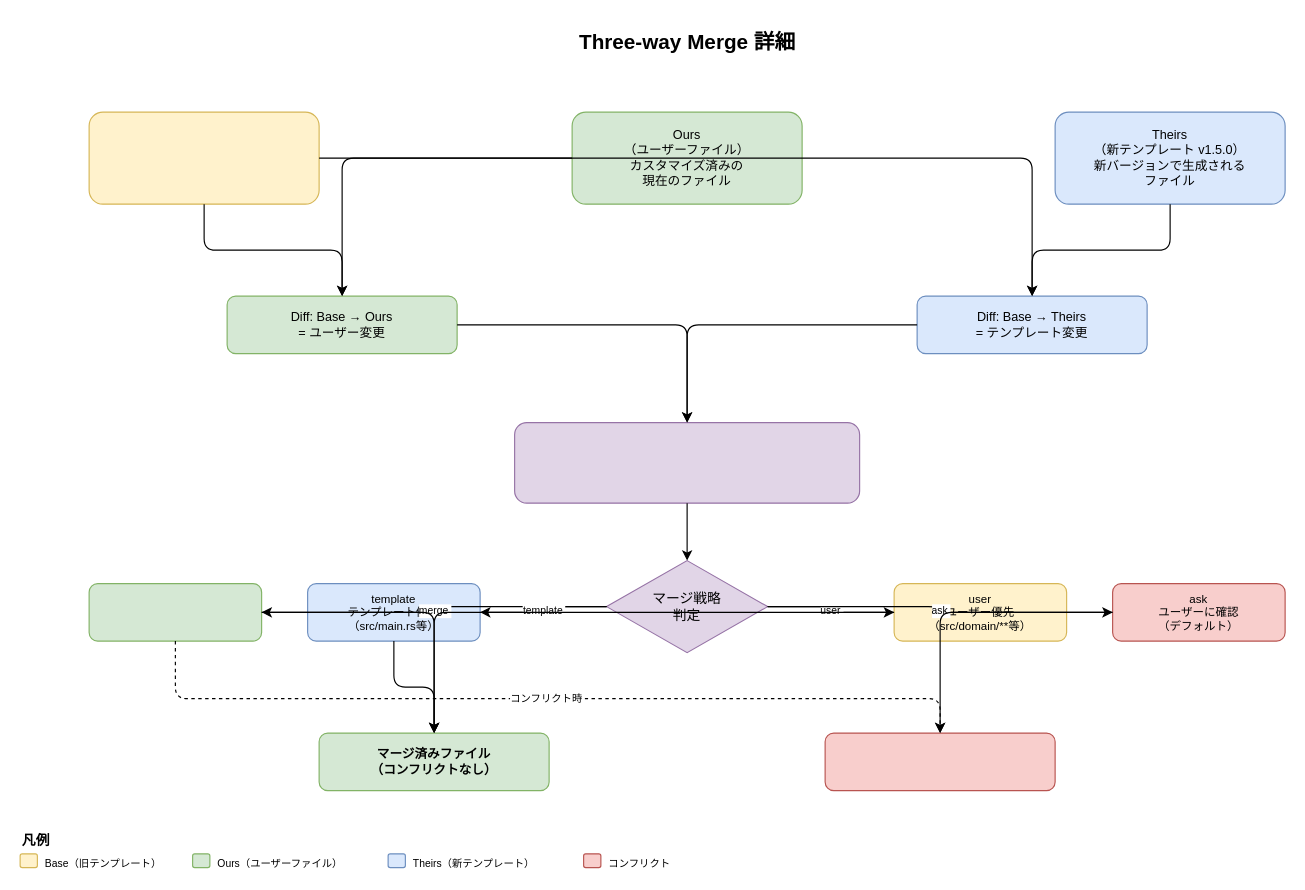
Some shapes in this 1305 by 890 pixel diagram are drawn without their labels. The centre of each missing label's shape, as x and y in pixels:
Base （旧テンプレート v1.2.0） 元テンプレートで生成された オリジナルファイル: the point at 203,157
merge Three-way Merge （Cargo.toml等）: the point at 175,611
コンフリクト検出 （ユーザー解決が必要）: the point at 939,761
マージロジック Ours + (Theirs - Base) ユーザー変更を保持しつつ テンプレート差分を適用: the point at 686,462
